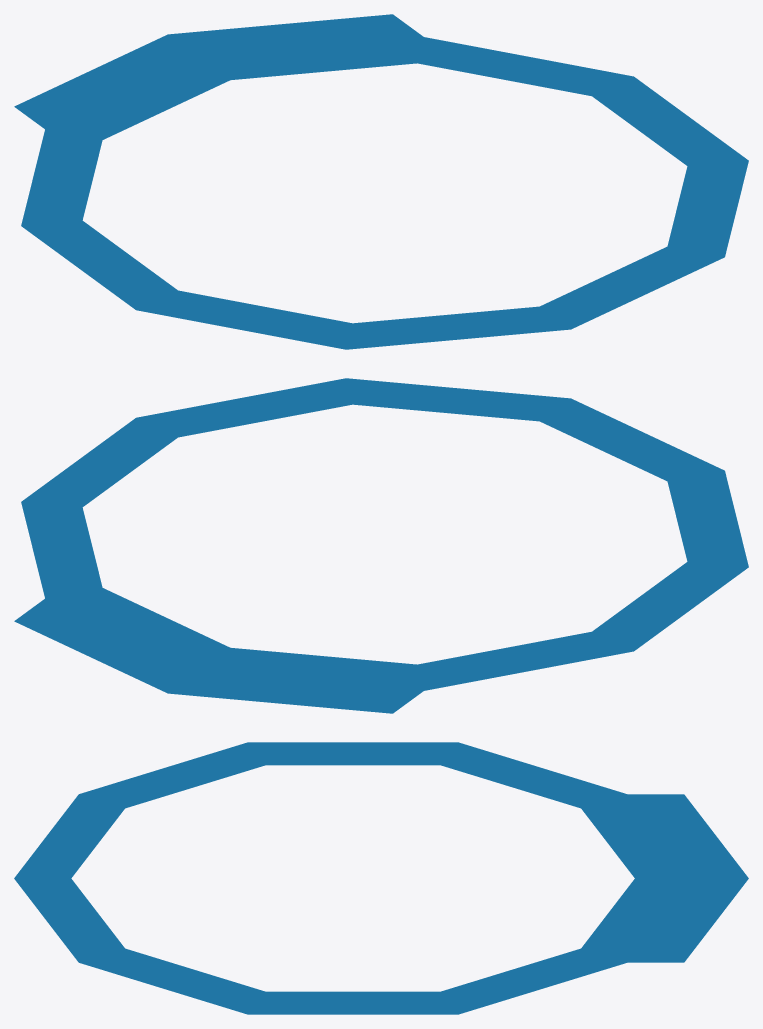
Rendered from PlayerRing.fbx.
3 views of the same model, one above another, from view 1: azimuth 30°, elevation 25°; view 2: azimuth 150°, elevation 25°; view 3: azimuth 270°, elevation 25° (orthographic). The views are drawn at different scales.
Parts seen in each view (by area): view 1: Plane; view 2: Plane; view 3: Plane.
Boxes of the visible parts, box(x1,y1,x2,y2) form: Plane: box(14, 14, 748, 349); Plane: box(14, 378, 748, 713); Plane: box(14, 742, 748, 1014).
Bounding box in the file's own units: 190 × 3.53e-05 × 217.
